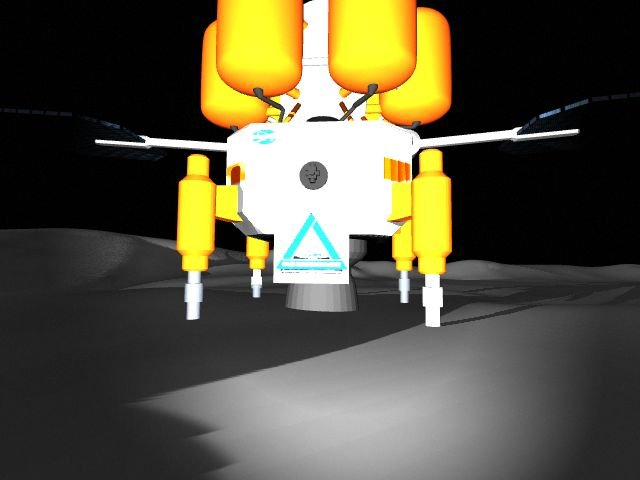basemarker: (275, 212, 350, 276)
